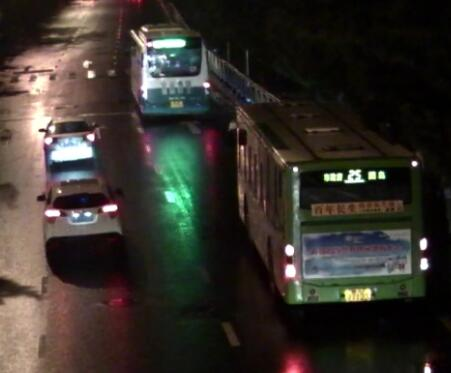bus: (226, 101, 427, 302), (129, 21, 212, 121)
car: (36, 178, 128, 256), (38, 117, 103, 171)
